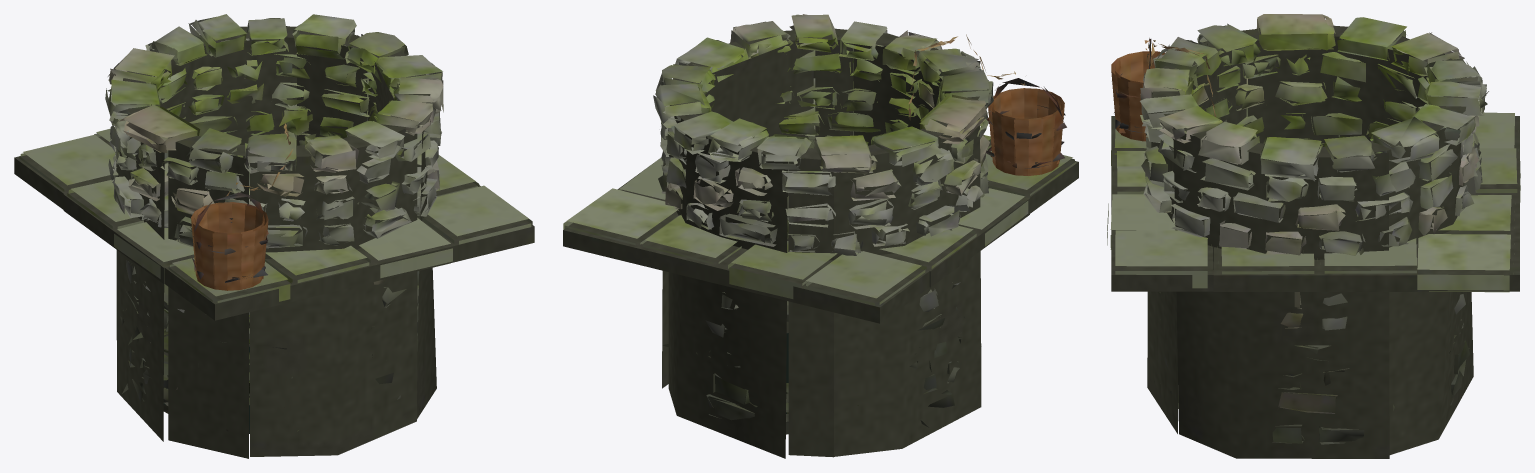
File: well_cobweb_hd.glb
The picture shows the model from 3 angles, left to right: view 1: azimuth 30°, elevation 25°; view 2: azimuth 150°, elevation 25°; view 3: azimuth 270°, elevation 25°; orthographic projection. The views are drawn at different scales.
Parts seen in each view (by area): view 1: well_cobweb; view 2: well_cobweb; view 3: well_cobweb.
Boxes of the visible parts, <box> form: well_cobweb: <box>14,14,534,458</box>; well_cobweb: <box>563,14,1078,458</box>; well_cobweb: <box>1107,14,1520,458</box>.
Bounding box in the file's own units: 1.88 × 1.75 × 2.02.
Materials: 1 (1 with a texture image).
